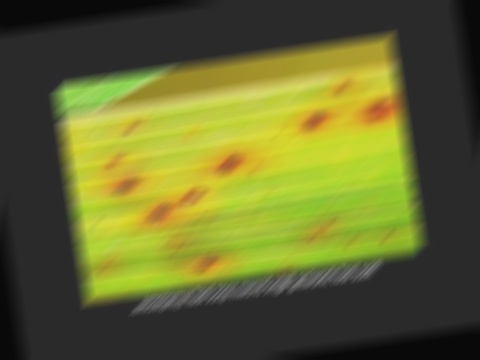Bacterial_Leaf_Blight: (205, 140, 254, 180), (351, 90, 401, 128), (290, 101, 338, 137), (179, 254, 225, 275), (141, 199, 181, 222), (106, 172, 136, 199), (174, 185, 207, 206), (119, 115, 144, 138), (328, 80, 355, 94), (105, 151, 126, 168)
